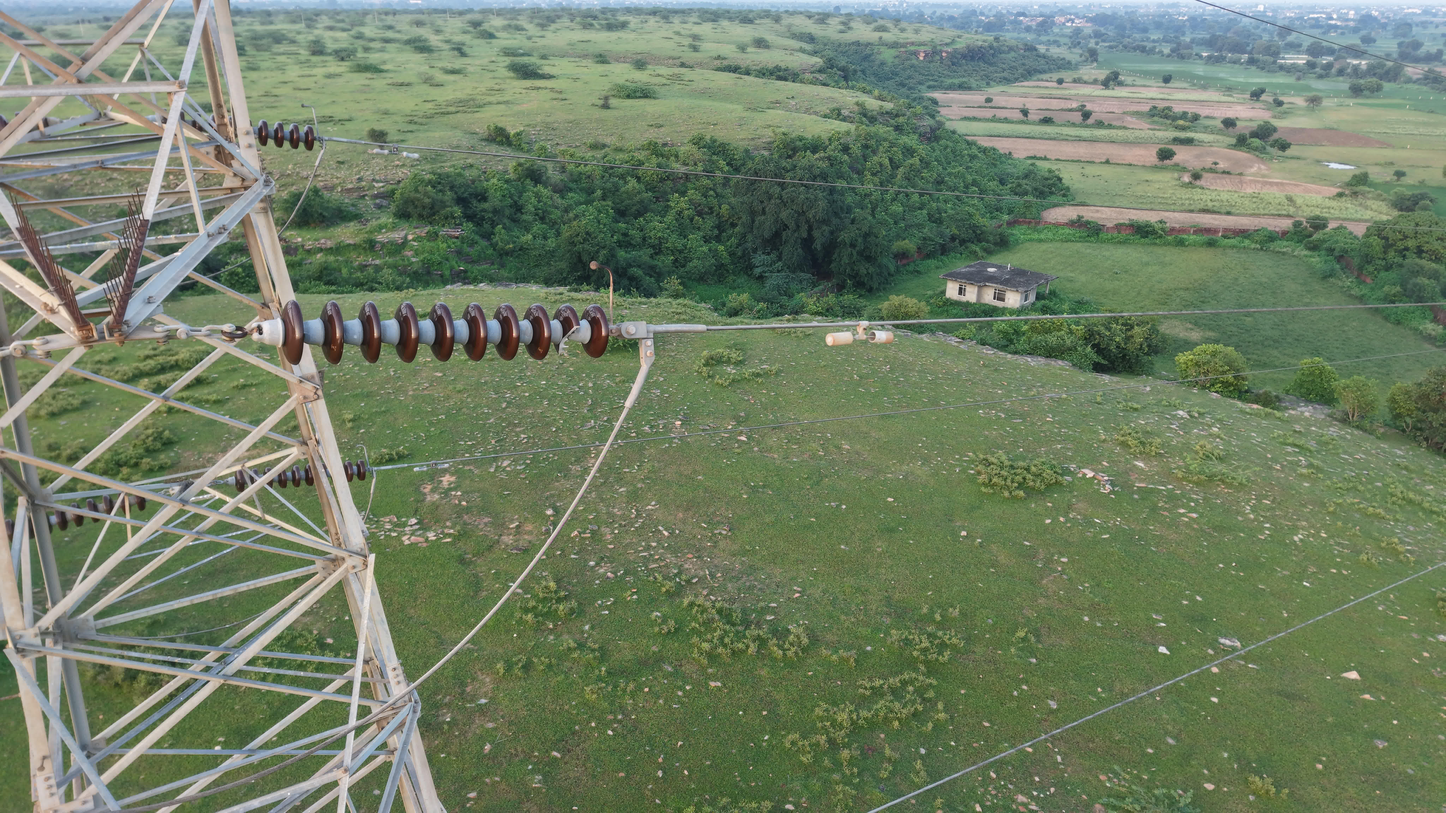broken_insulator: (553, 300, 583, 356)
